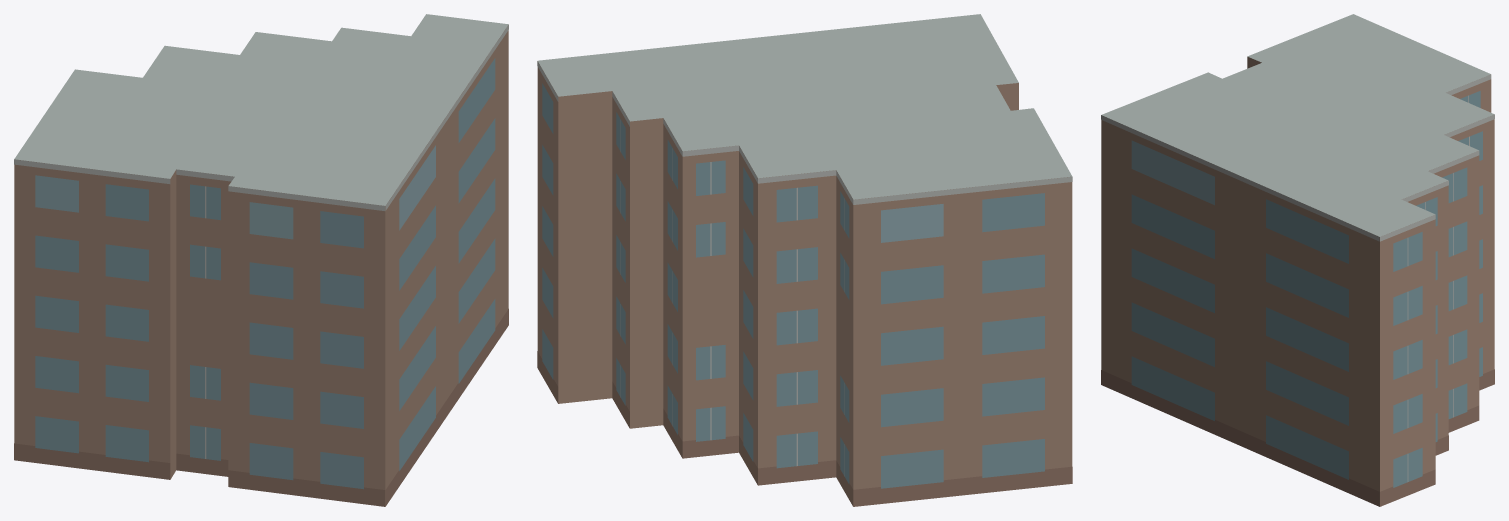
The model's file is survey-upis-32763279.glb.
3 views of the same model, side by side, from view 1: azimuth 30°, elevation 25°; view 2: azimuth 150°, elevation 25°; view 3: azimuth 270°, elevation 25° (orthographic). The views are drawn at different scales.
Visible parts, largest first — view 1: survey-upis-32763279.tmp; view 2: survey-upis-32763279.tmp; view 3: survey-upis-32763279.tmp.
Boxes of the visible parts, x1,y1,x2,y2 form: survey-upis-32763279.tmp: (14,14,508,506); survey-upis-32763279.tmp: (537,14,1072,506); survey-upis-32763279.tmp: (1101,14,1494,506).
Bounding box in the file's own units: 24.45 × 13.8 × 18.24.
